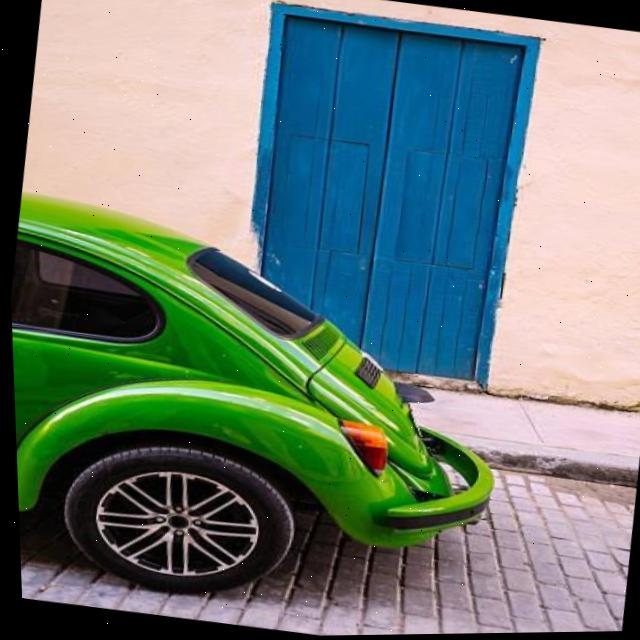vehicle: (6, 196, 523, 605)
